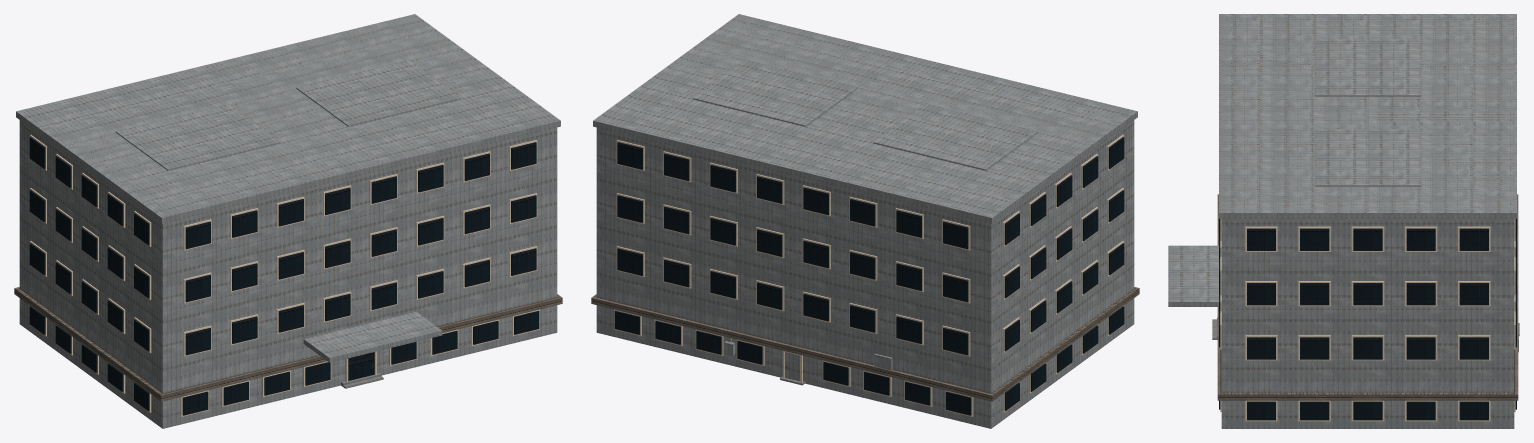
The model's file is foundry-works-hub_lod0.gltf.
3 views of the same model, side by side, from view 1: azimuth 30°, elevation 25°; view 2: azimuth 150°, elevation 25°; view 3: azimuth 270°, elevation 25° (orthographic). The views are drawn at different scales.
Parts seen in each view (by area): view 1: foundry-works-hub_main, foundry-works-hub__parapet, foundry-works-hub_fen_07-glass-curtain-blue_1_t, foundry-works-hub_fen_04-limestone_0, foundry-works-hub__solar_b, foundry-works-hub__solar_a, foundry-works-hub__timber_band, foundry-works-hub__canopy; view 2: foundry-works-hub_main, foundry-works-hub_fen_07-glass-curtain-blue_1_t, foundry-works-hub__parapet, foundry-works-hub_fen_04-limestone_0, foundry-works-hub__solar_b, foundry-works-hub__solar_a, foundry-works-hub__timber_band, foundry-works-hub_fen_14-steel-panel_4; view 3: foundry-works-hub_main, foundry-works-hub__parapet, foundry-works-hub_fen_07-glass-curtain-blue_1_t, foundry-works-hub__solar_a, foundry-works-hub__solar_b, foundry-works-hub_fen_04-limestone_0, foundry-works-hub__timber_band, foundry-works-hub__canopy.
Part boxes in pixels (x1,y1,x2,y2): foundry-works-hub_main: [19, 15, 557, 428]; foundry-works-hub__parapet: [16, 14, 560, 223]; foundry-works-hub_fen_07-glass-curtain-blue_1_t: [29, 137, 539, 415]; foundry-works-hub_fen_04-limestone_0: [30, 135, 539, 416]; foundry-works-hub__solar_b: [296, 60, 460, 126]; foundry-works-hub__solar_a: [116, 104, 280, 170]; foundry-works-hub__timber_band: [14, 287, 562, 401]; foundry-works-hub__canopy: [303, 311, 442, 362]; foundry-works-hub_main: [596, 16, 1134, 428]; foundry-works-hub_fen_07-glass-curtain-blue_1_t: [614, 137, 1124, 415]; foundry-works-hub__parapet: [593, 14, 1137, 223]; foundry-works-hub_fen_04-limestone_0: [614, 135, 1123, 416]; foundry-works-hub__solar_b: [693, 60, 857, 126]; foundry-works-hub__solar_a: [873, 104, 1037, 170]; foundry-works-hub__timber_band: [591, 287, 1139, 401]; foundry-works-hub_fen_14-steel-panel_4: [724, 337, 892, 381]; foundry-works-hub_main: [1221, 15, 1514, 428]; foundry-works-hub__parapet: [1219, 14, 1516, 218]; foundry-works-hub_fen_07-glass-curtain-blue_1_t: [1219, 219, 1516, 420]; foundry-works-hub__solar_a: [1314, 39, 1421, 96]; foundry-works-hub__solar_b: [1314, 129, 1421, 186]; foundry-works-hub_fen_04-limestone_0: [1220, 219, 1515, 421]; foundry-works-hub__timber_band: [1217, 194, 1518, 400]; foundry-works-hub__canopy: [1168, 245, 1218, 306].
Bounding box in the file's own units: 35.6 × 18.1 × 26.4.
